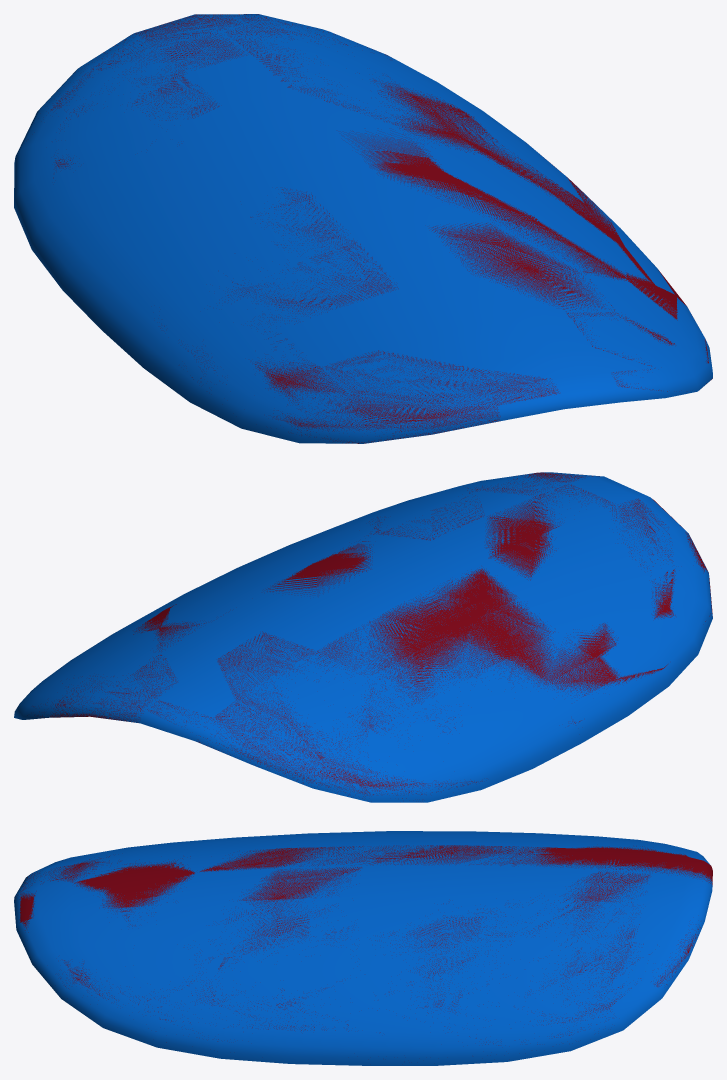
The model's file is ex12blue.glb.
3 views of the same model, one above another, from view 1: azimuth 30°, elevation 25°; view 2: azimuth 150°, elevation 25°; view 3: azimuth 270°, elevation 25° (orthographic). The views are drawn at different scales.
Parts seen in each view (by area): view 1: nail.001, nail; view 2: nail.001, nail; view 3: nail.001, nail.
Part boxes in pixels (x1,y1,x2,y2): nail.001: (14,14,712,443); nail: (51,14,712,443); nail.001: (14,472,712,802); nail: (27,472,712,798); nail.001: (14,831,712,1065); nail: (15,845,712,1045).
Size of the model in its own units: 0.9089 by 0.2412 by 1.36.
